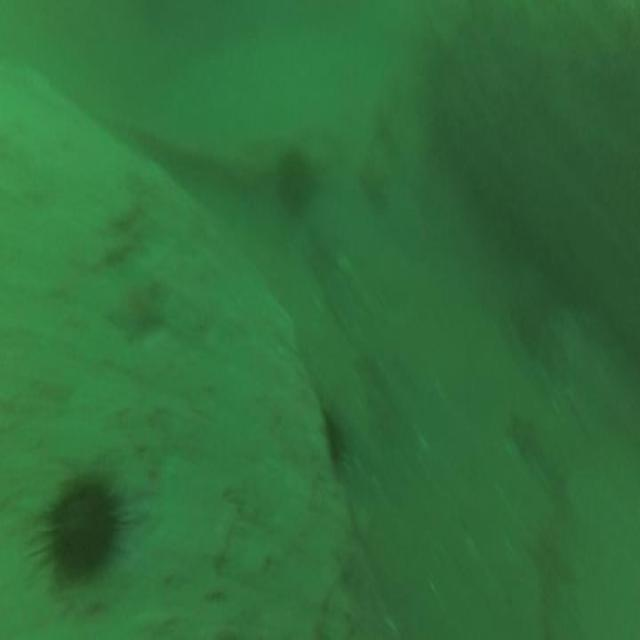echinus: (45, 468, 123, 591), (278, 134, 318, 222)
starfish: (103, 275, 167, 349), (506, 403, 544, 461)
